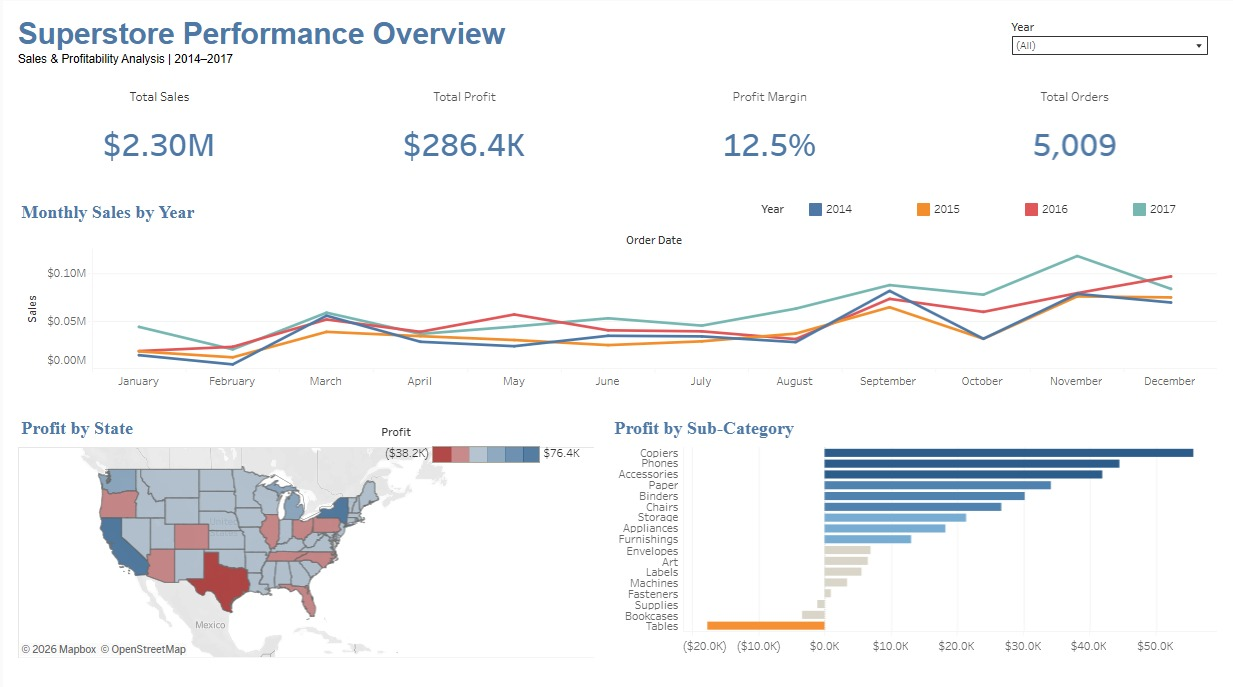

This screenshot's page, from the dashboard's own definition file:
{"tool":"tableau","page":{"name":"Dashboard 1","canvas":[1366,768],"ordinal":0},"visuals":[{"type":"title","box":[16,12,1040,65]},{"type":"filter","title":"Tren Penjualan Bulanan","param":"[federated.1xabvri1itg1je13v3saj0lhj82w].[yr:Order Date:ok]","box":[1120,20,220,45]},{"type":"worksheet","title":"Total Sales","mark":"Automatic","box":[16,90,315,100]},{"type":"worksheet","title":"Total Profit","mark":"Automatic","box":[355,90,315,100]},{"type":"worksheet","title":"Profit Margin","mark":"Automatic","box":[694,90,315,100]},{"type":"worksheet","title":"Total Orders","mark":"Automatic","box":[1033,90,315,100]},{"type":"worksheet","title":"Tren Penjualan Bulanan","mark":"Line","rows":["Sales"],"cols":["Order Date"],"box":[16,215,1332,215]},{"type":"worksheet","title":"Profit per region&state","mark":"Multipolygon","box":[16,455,640,275]},{"type":"worksheet","title":"Profit per sub category","mark":"Bar","rows":["Sub_Category"],"cols":["Profit"],"box":[675,455,673,275]},{"type":"legend","title":"Profit per region&state","param":"[federated.1xabvri1itg1je13v3saj0lhj82w].[sum:Profit:qk]","box":[420,470,225,45]}]}

Visuals, with their boxes in screenshot pixels (x1, y1, x2, y2), scaled from the page's 1366x768 canvas onto the 1233x687 screenshot:
title: (14,11,953,69)
"Tren Penjualan Bulanan" filter: (1011,18,1210,58)
"Total Sales" worksheet: (14,81,299,170)
"Total Profit" worksheet: (320,81,605,170)
"Profit Margin" worksheet: (626,81,911,170)
"Total Orders" worksheet: (932,81,1217,170)
"Tren Penjualan Bulanan" worksheet (Line marks): (14,192,1217,385)
"Profit per region&state" worksheet (Multipolygon marks): (14,407,592,653)
"Profit per sub category" worksheet (Bar marks): (609,407,1217,653)
"Profit per region&state" legend: (379,420,582,461)
